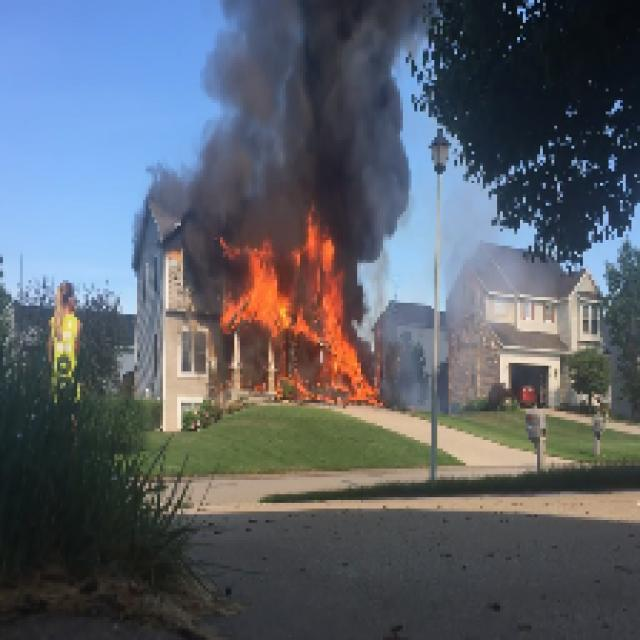Fire: (240, 242, 380, 407)
Smoke: (170, 0, 414, 208)
